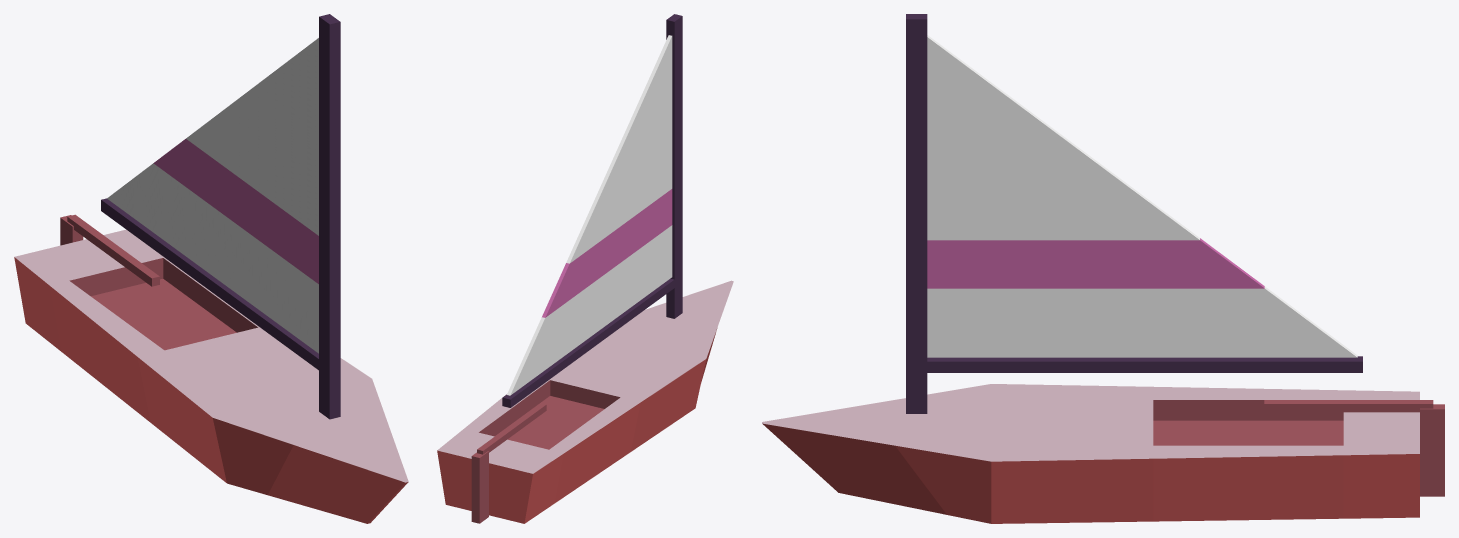
File: sailboat_fit.glb
3 views of the same model, side by side, from view 1: azimuth 30°, elevation 25°; view 2: azimuth 150°, elevation 25°; view 3: azimuth 270°, elevation 25° (orthographic). The views are drawn at different scales.
Visible parts, largest first — view 1: Hull, Rig; view 2: Hull, Rig; view 3: Rig, Hull.
Boxes of the visible parts, x1,y1,x2,y2 form: Hull: [14, 214, 408, 523]; Rig: [101, 14, 340, 419]; Hull: [437, 280, 733, 523]; Rig: [502, 14, 682, 407]; Rig: [906, 14, 1362, 413]; Hull: [762, 384, 1444, 523].
Bounding box in the file's own units: 1.04 × 2.96 × 3.84.
